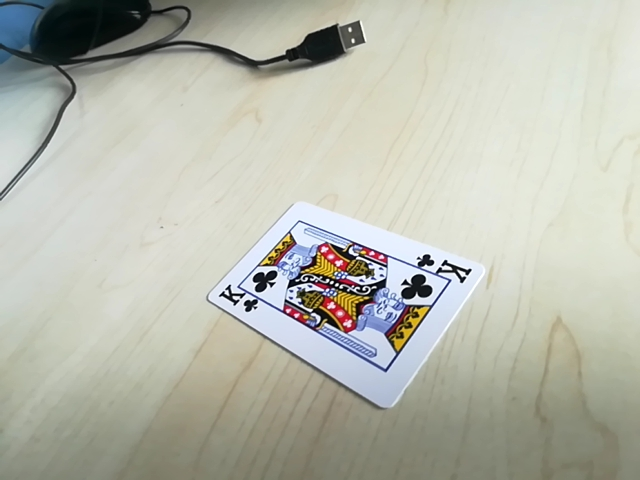mh k: (408, 251, 476, 282), (213, 281, 264, 313)
